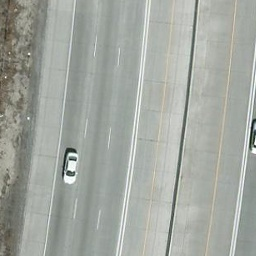car: (60, 151, 79, 182)
